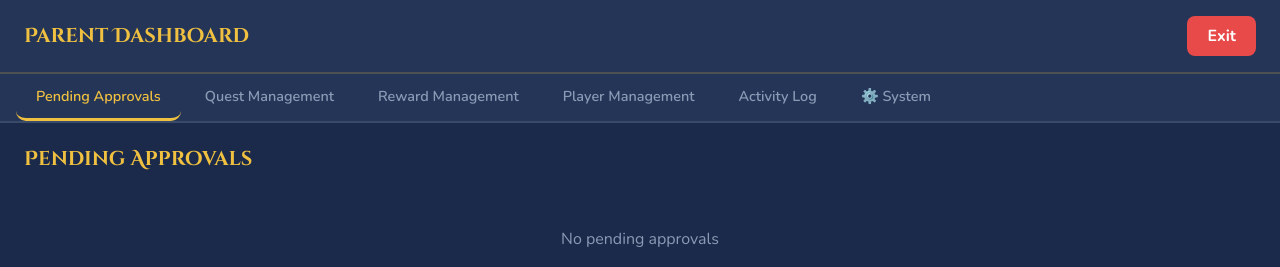
ParentDashboard › switching to Activity Log shows activity log panel
Click the tab "Activity Log" at x=778, y=98, box x1=718 y1=74 x2=837 y2=121
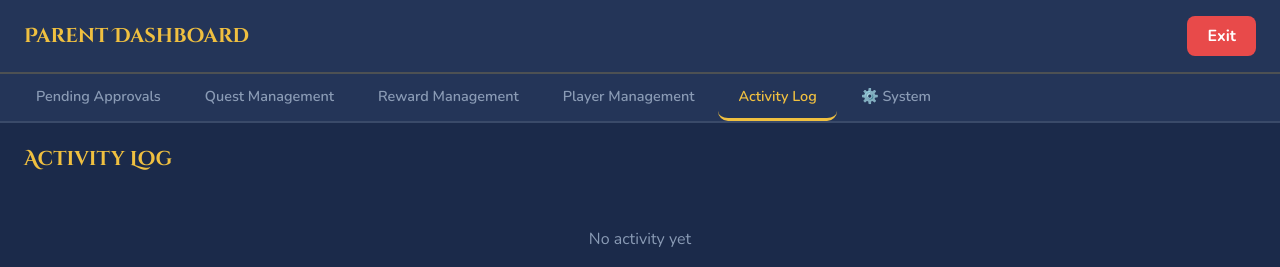
Now the text "No activity yet" is shown, box x1=589 y1=228 x2=691 y2=250
